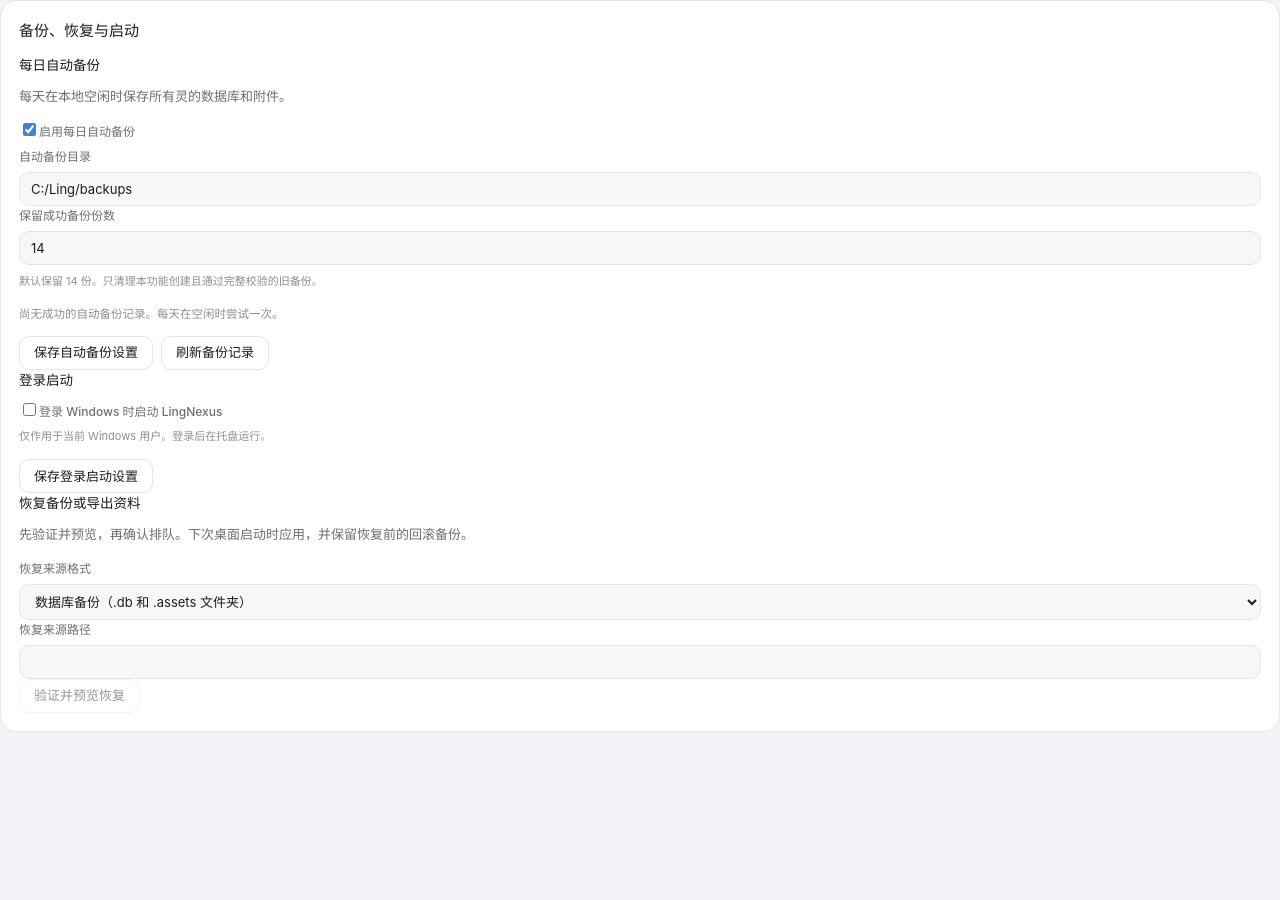
it: failed backup settings save shows the error and no success claim
Expected: the field labelled "自动备份目录" is shown, [19,172,1261,206]
Step 1. Click the button "保存自动备份设置" → click(86, 353), box [19,336,153,370]
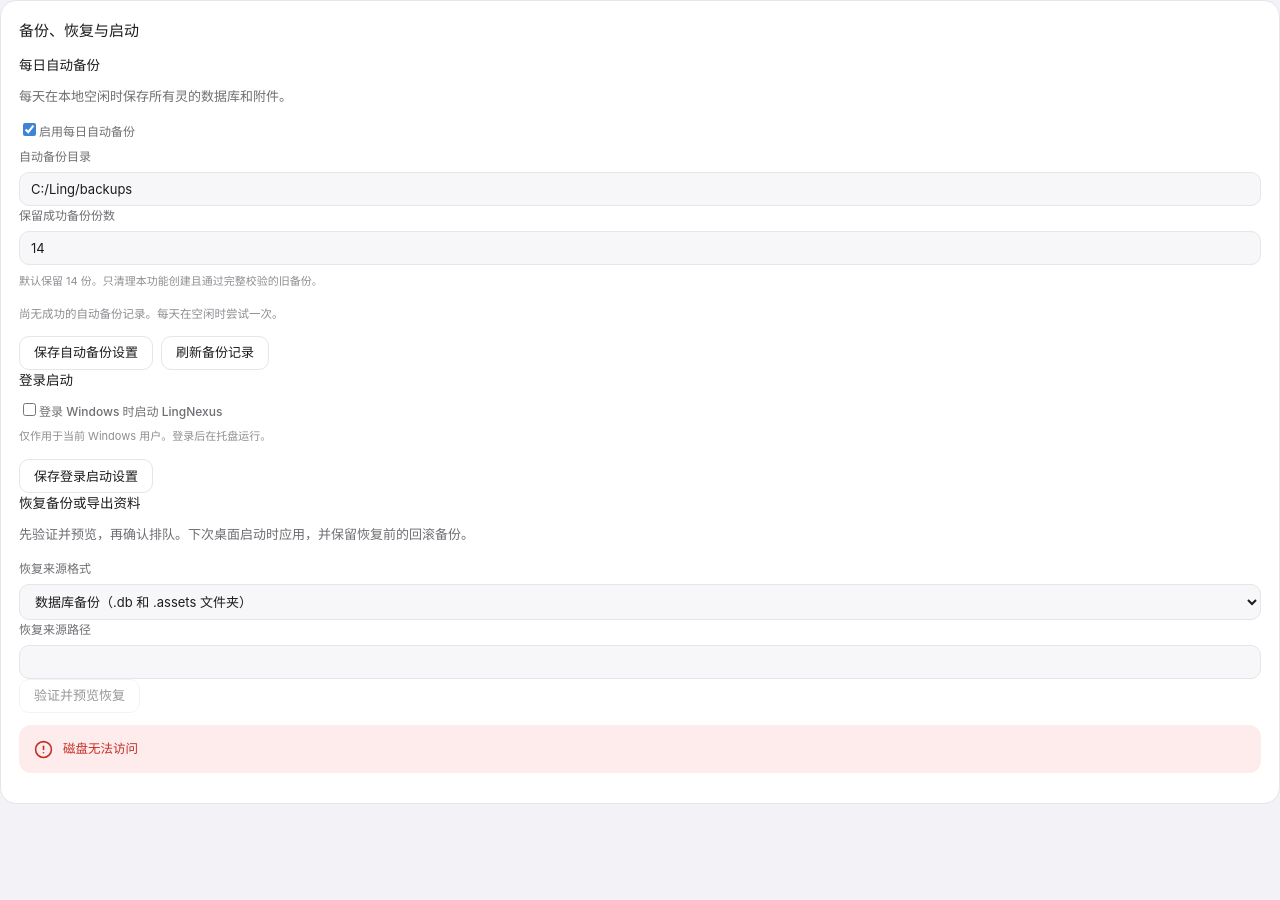
Result: the text "磁盘无法访问" is shown at [63,738,138,760]
